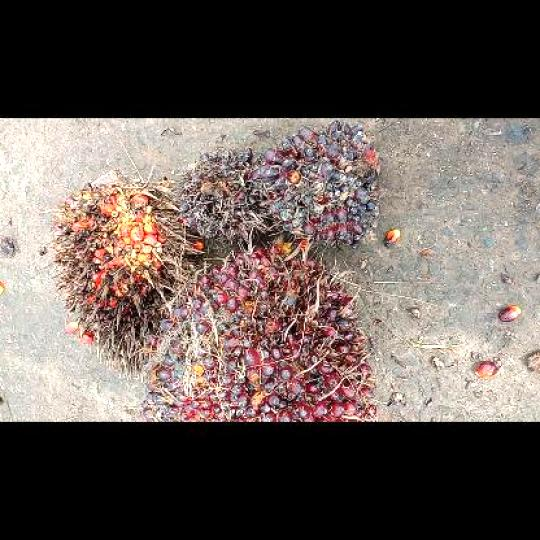masak: (134, 244, 386, 421)
terlalu masak: (46, 166, 203, 382)
